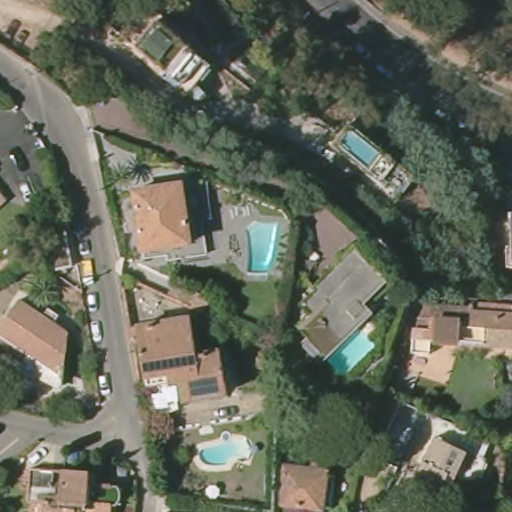pool: (324, 331, 375, 381), (244, 218, 280, 279), (198, 437, 252, 470), (346, 126, 379, 169)
